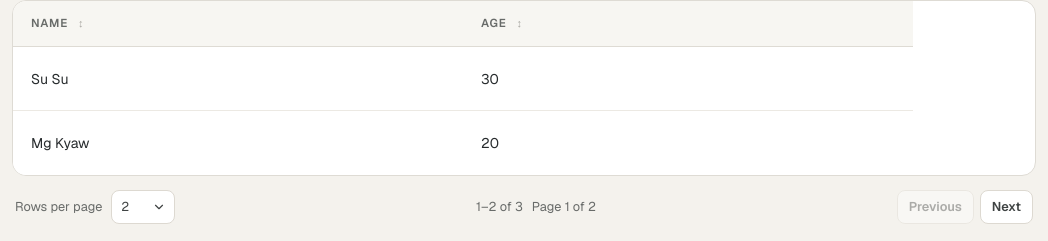
Test case: DataTable › paginates and disables buttons at boundaries
Expected: the text "Su Su" is shown, [31, 68, 68, 88]
Expected: the text "Mya Mya" is not shown
Click the button with aria-label "next page" at (1006, 207), box [980, 190, 1033, 224]
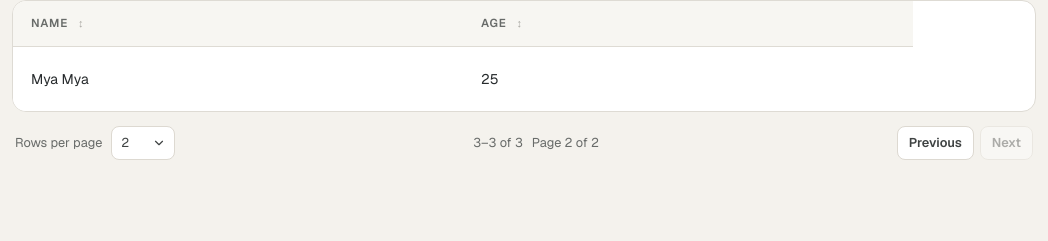
Expected: the text "Mya Mya" is shown, [31, 68, 89, 88]
Expected: the button with aria-label "next page" is disabled, [980, 126, 1033, 160]
